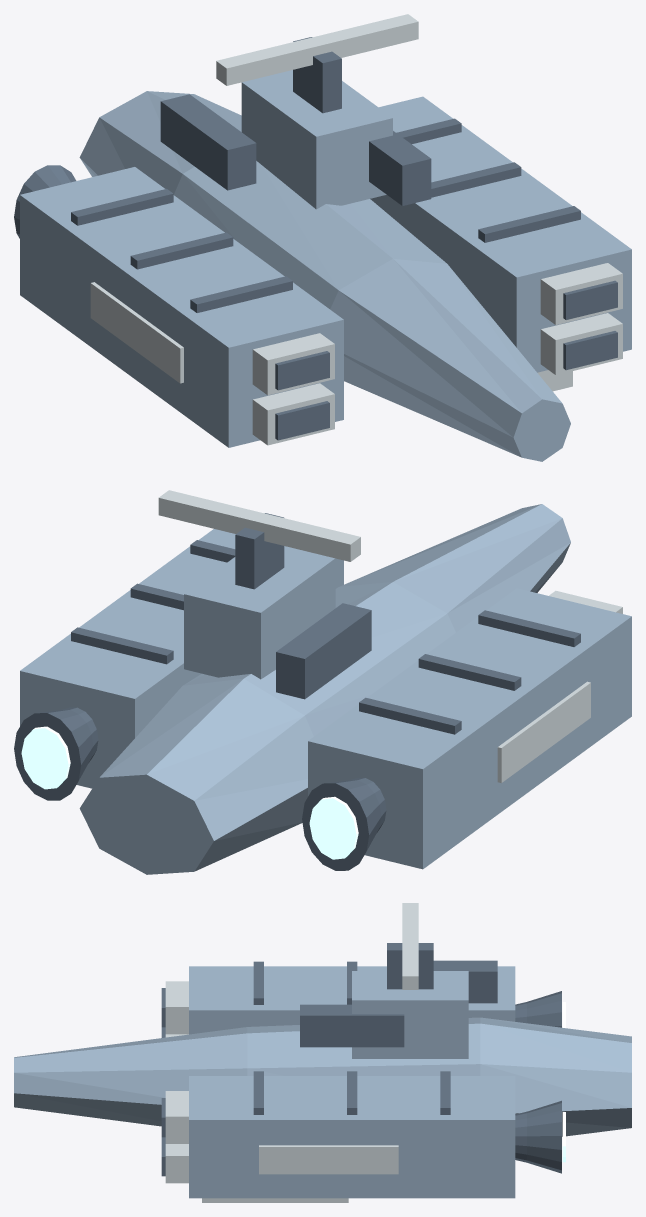
The picture shows the model from 3 angles, top to bottom: view 1: azimuth 30°, elevation 25°; view 2: azimuth 150°, elevation 25°; view 3: azimuth 270°, elevation 25°; orthographic projection. The views are drawn at different scales.
Bounding box in the file's own units: 8.52 × 5.5 × 14.21.
